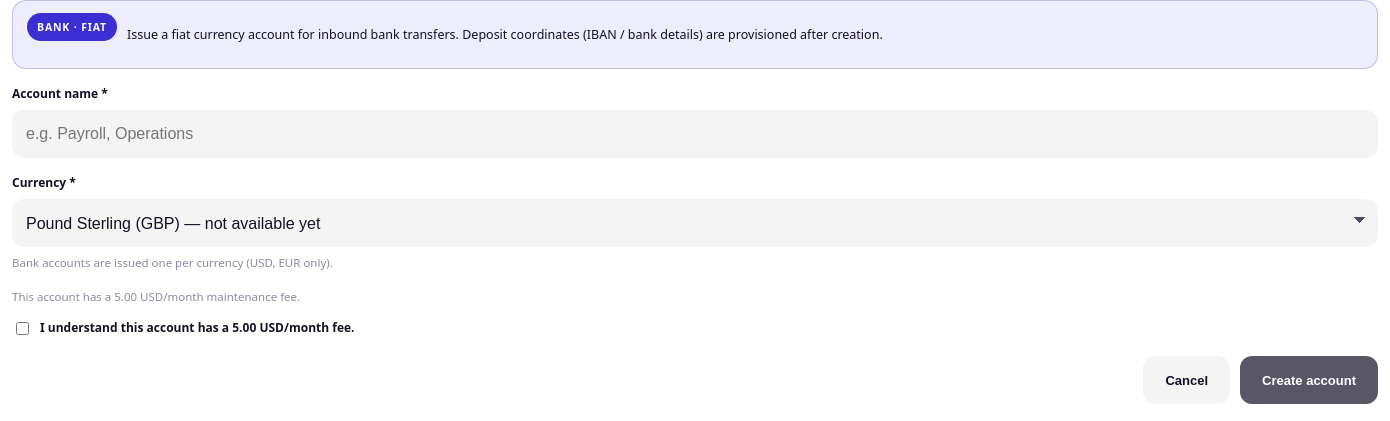
CreateAccountModal — monthly maintenance fee disclosure › shows a disclosure and requires acknowledgment before submit when the selected currency has a fee
The image size is (1390, 421).
Expected: the text "This account has a 5.00 USD/month maintenance fee." is shown, [12, 289, 300, 304]
Expected: the button "Create account" is disabled, [1240, 356, 1378, 404]
Click the checkbox. click: coordinates (22, 329)
box: [16, 322, 29, 335]
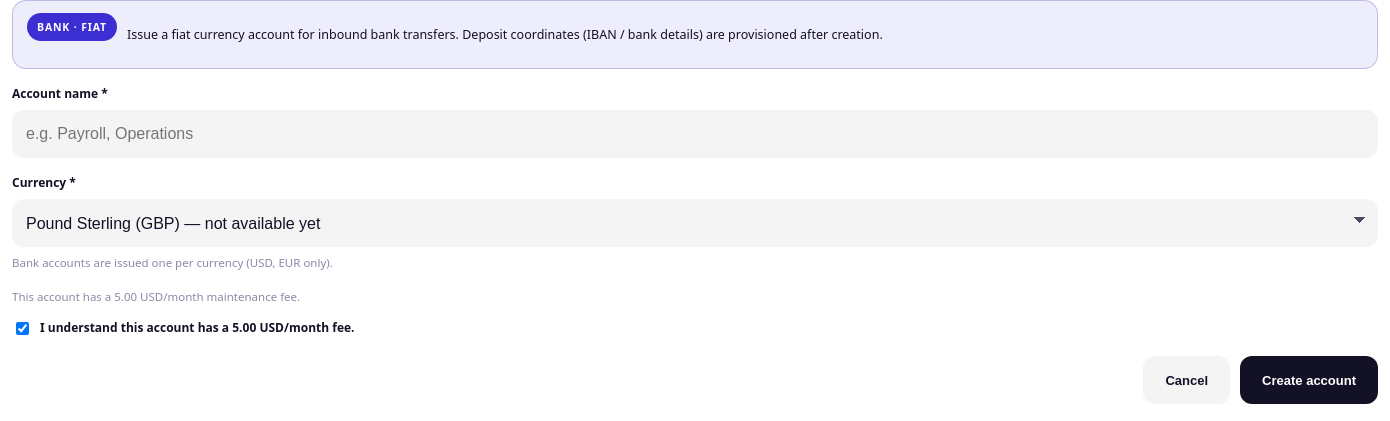
Expected: the button "Create account" is enabled, [1240, 356, 1378, 404]
